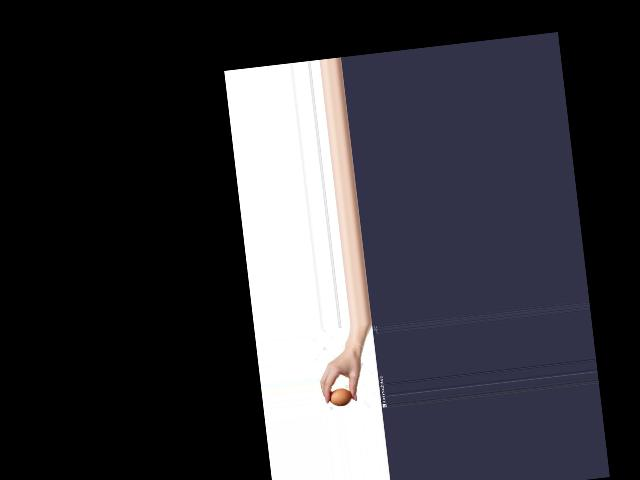egg: (329, 386, 352, 406)
